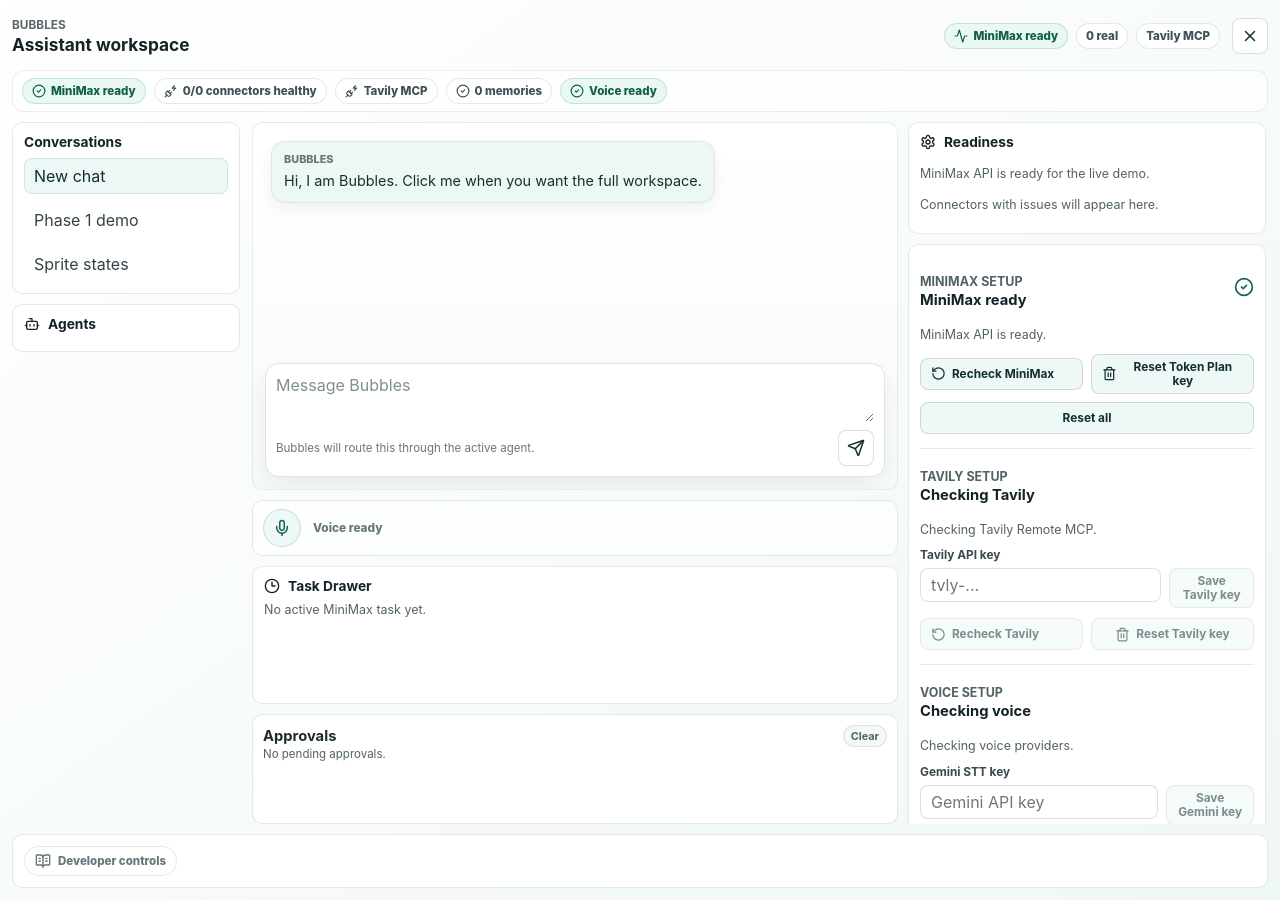
Scenario: Bubbles floating avatar shell › keeps avatar developer controls behind a details surface
This screenshot has width=1280, height=900.
Expected: the button "thinking" is not shown
Click the button "Developer controls" at (101, 861), box [24,846,177,876]
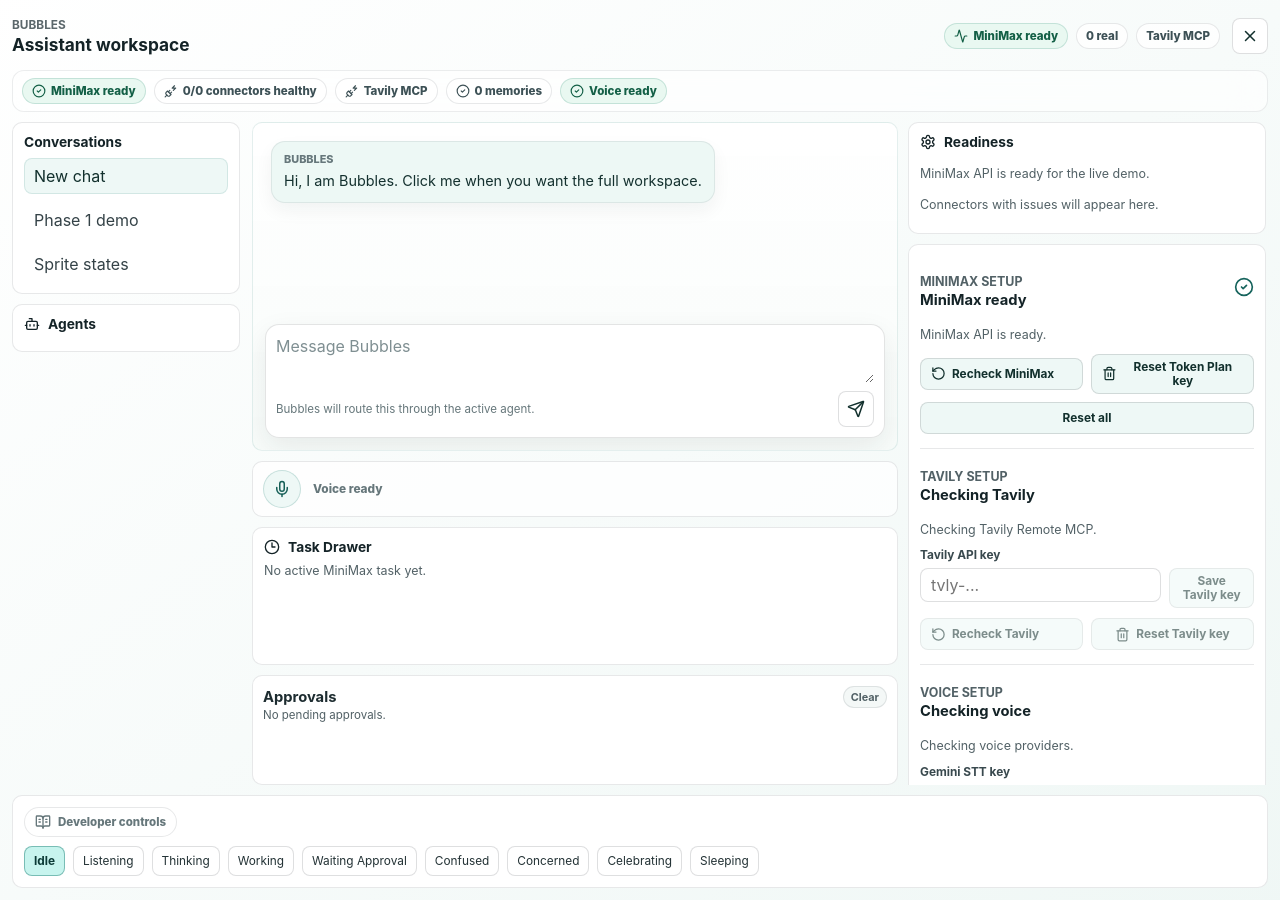
Now the button "thinking" is shown, box [152,846,220,876]
